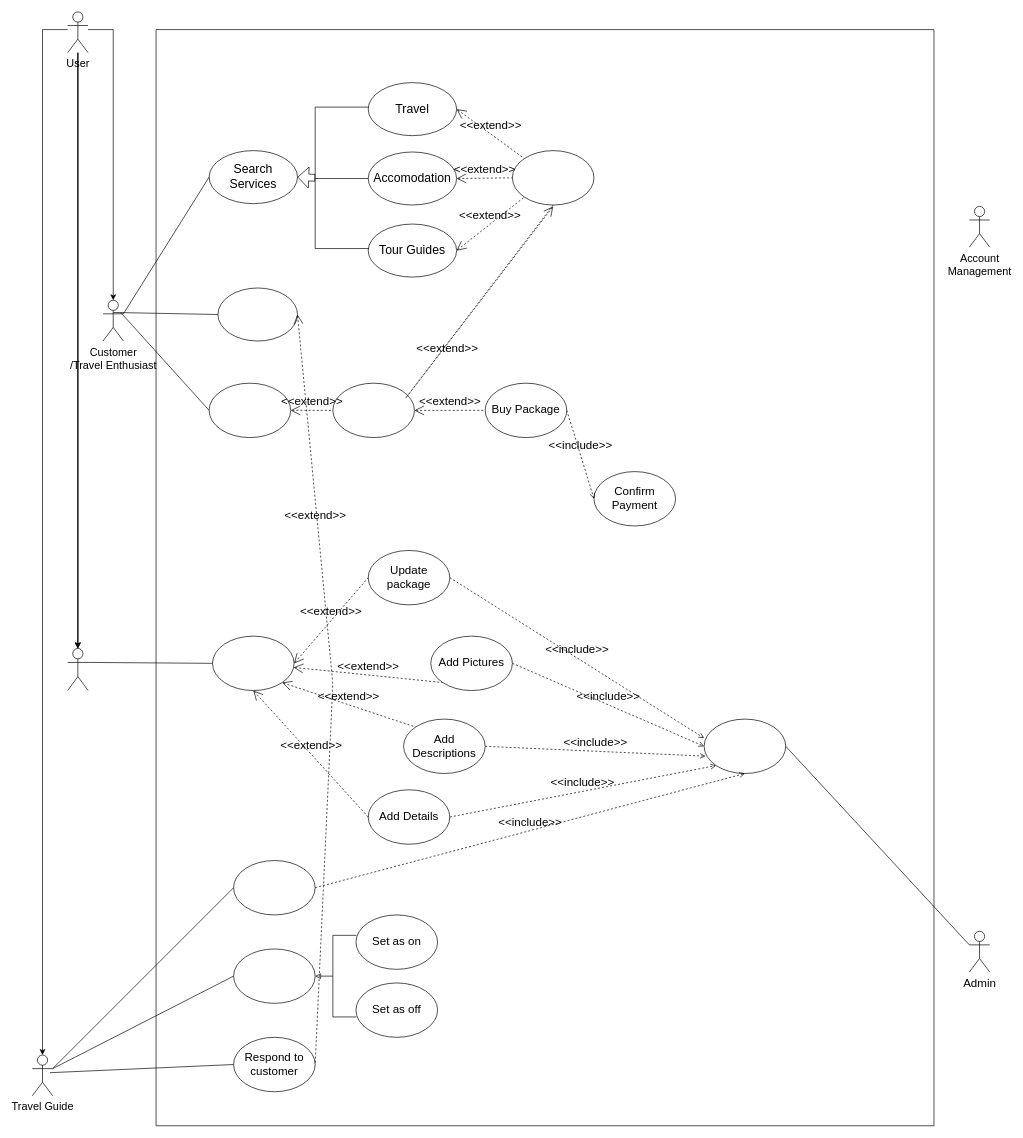
The diagram is 1023 pixels wide and 1138 high, and some of its shapes have lost their labels. Each missing label, with the centre of its shape:
"Add to cart" belongs at (373,410).
"Add travel guidance plan" belongs at (274,887).
"Add Travel packages" belongs at (253,663).
"Approve" belongs at (744,746).
"Bookmark Package" belongs at (249,410).
"Communicate using chat option" belongs at (257,314).
"Set their availability" belongs at (274,975).
"sort results" belongs at (553,177).
"Travel Partner" belongs at (77,669).
